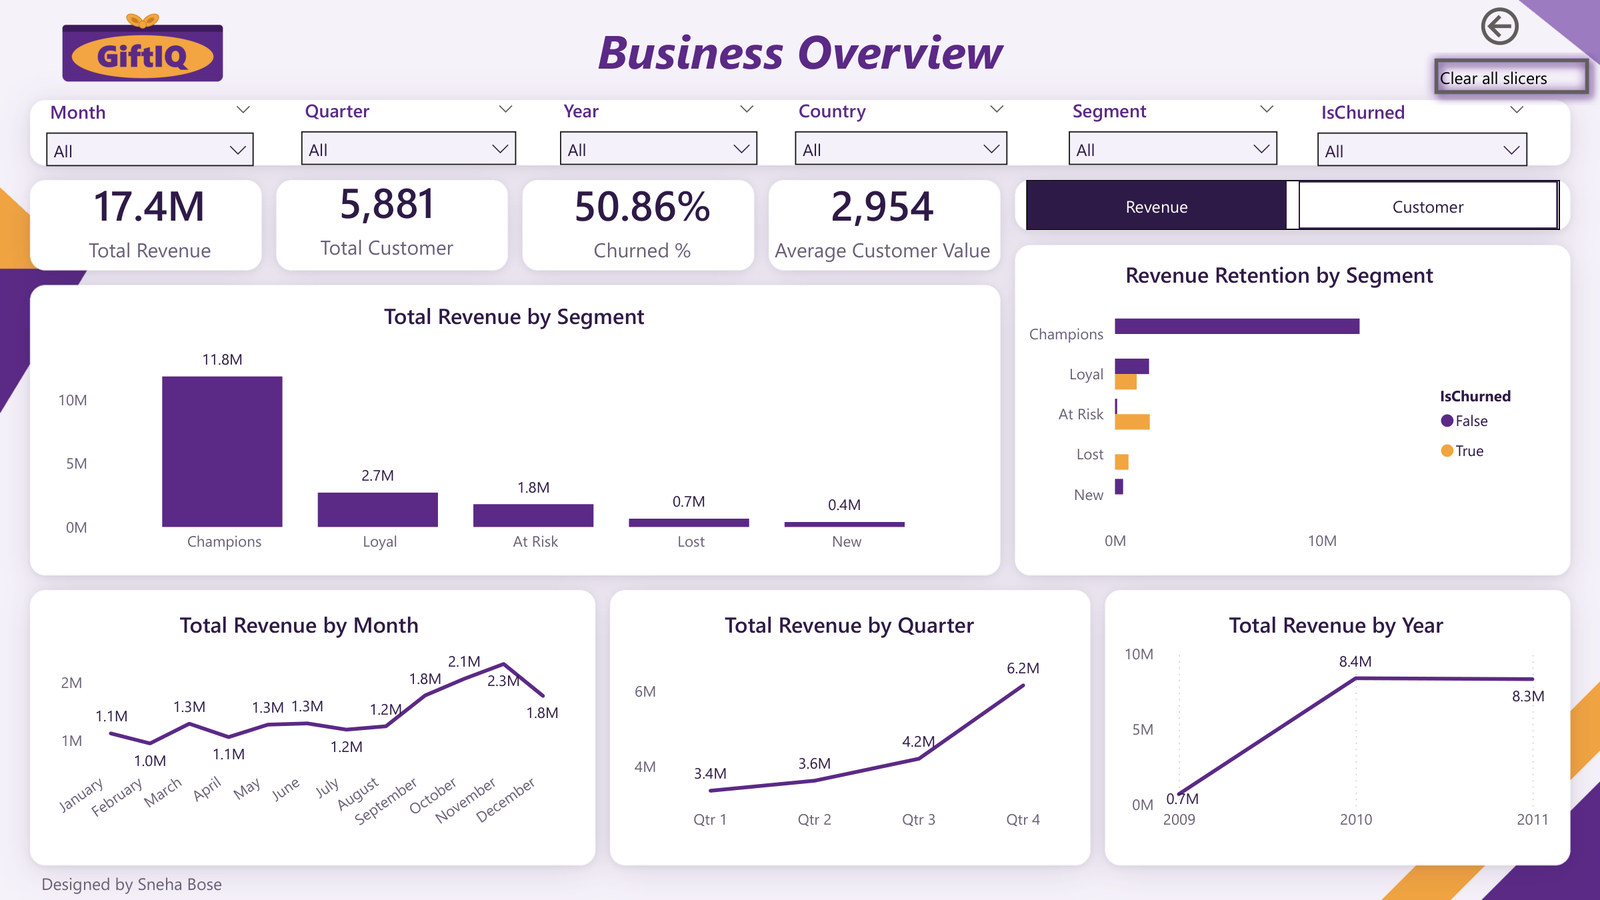

Layout of this report page (visuals, bound fields, positions):
{"tool":"powerbi","page":{"name":"Overview","canvas":[1280,720],"ordinal":1},"visuals":[{"type":"card","fields":{"Values":["Sheet1.Total Customer"]},"box":[230.5,120.8,157.8,102.9],"z":0},{"type":"columnChart","fields":{"Y":["Sheet1.Total Revenue"],"Category":["Sheet1.Segment"]},"box":[41.1,240.2,741,211.3],"z":0,"group":"g1"},{"type":"card","fields":{"Values":["Sheet1.Total Revenue"]},"box":[27.4,124.9,185.2,98.8],"z":1000},{"type":"lineChart","fields":{"Category":["Sheet1.InvoiceMonth.Variation.Date Hierarchy.Year"],"Y":["Sheet1.Total Revenue"]},"box":[894.6,487.2,349.9,186.6],"z":1000,"group":"g1"},{"type":"card","fields":{"Values":["Sheet1.Churned %"]},"box":[422.6,124.9,182.5,98.8],"z":2000},{"type":"lineChart","fields":{"Category":["Sheet1.InvoiceMonth.Variation.Date Hierarchy.Month"],"Y":["Sheet1.Total Revenue"]},"box":[27.4,487.2,425.4,186.6],"z":2000,"group":"g1"},{"type":"card","fields":{"Values":["Sheet1.Average Customer Vslue"]},"box":[605.1,124.9,201.7,98.8],"z":3000},{"type":"lineChart","fields":{"Category":["Sheet1.InvoiceMonth.Variation.Date Hierarchy.Quarter"],"Y":["Sheet1.Total Revenue"]},"box":[502.2,487.2,355.4,186.6],"z":3000,"group":"g1"},{"type":"slicer","fields":{"Values":["Sheet1.InvoiceMonth.Variation.Date Hierarchy.Month"]},"box":[27.4,74.1,185.2,60.4],"z":4000},{"type":"clusteredBarChart","title":"Revenue Retention by Segment","fields":{"Category":["Sheet1.Segment"],"Y":["Sheet1.Total Revenue"],"Series":["Sheet1.IsChurned"]},"box":[814.5,206.8,419.1,244.2],"z":4000,"group":"g1"},{"type":"slicer","fields":{"Values":["Sheet1.InvoiceMonth.Variation.Date Hierarchy.Quarter"]},"box":[230.5,72.7,192.1,61.7],"z":5000},{"type":"slicer","fields":{"Values":["Sheet1.InvoiceMonth.Variation.Date Hierarchy.Year"]},"box":[437.7,72.7,178.4,61.7],"z":6000},{"type":"slicer","fields":{"Values":["Sheet1.Country"]},"box":[625.7,72.7,190.7,61.7],"z":7000},{"type":"slicer","fields":{"Values":["Sheet1.Segment"]},"box":[845.3,72.7,186.6,61.7],"z":8000},{"type":"slicer","fields":{"Values":["Sheet1.IsChurned"]},"box":[1044.3,74.1,188,60.4],"z":9000},{"type":"group","id":"g1","title":"Revenue","box":[27.4,206.8,1217.2,467],"z":11000},{"type":"bookmarkNavigator","box":[820.9,143.6,427,40.5],"z":12000},{"type":"textbox","box":[27.5,692.5,171.2,27.5],"z":13000},{"type":"image","box":[27.5,0,171.2,73.8],"z":14000},{"type":"textbox","box":[430.6,10,418.8,62.5],"z":15000},{"type":"actionButton","box":[1180,1.2,100,40],"z":16000},{"type":"actionButton","box":[1138.8,37.5,141.2,46.2],"z":17000}]}

Visuals, with their boxes in screenshot pixels (x1, y1, x2, y2), scaled from the page's 1280x720 canvas onto the 1600x900 screenshot:
card - Sheet1.Total Customer: (288,151,485,280)
columnChart - Sheet1.Total Revenue x Sheet1.Segment: (51,300,978,564)
card - Sheet1.Total Revenue: (34,156,266,280)
lineChart - Sheet1.InvoiceMonth.Variation.Date Hierarchy.Year x Sheet1.Total Revenue: (1118,609,1556,842)
card - Sheet1.Churned %: (528,156,756,280)
lineChart - Sheet1.InvoiceMonth.Variation.Date Hierarchy.Month x Sheet1.Total Revenue: (34,609,566,842)
card - Sheet1.Average Customer Vslue: (756,156,1008,280)
lineChart - Sheet1.InvoiceMonth.Variation.Date Hierarchy.Quarter x Sheet1.Total Revenue: (628,609,1072,842)
slicer - Sheet1.InvoiceMonth.Variation.Date Hierarchy.Month: (34,93,266,168)
"Revenue Retention by Segment" clusteredBarChart: (1018,258,1542,564)
slicer - Sheet1.InvoiceMonth.Variation.Date Hierarchy.Quarter: (288,91,528,168)
slicer - Sheet1.InvoiceMonth.Variation.Date Hierarchy.Year: (547,91,770,168)
slicer - Sheet1.Country: (782,91,1021,168)
slicer - Sheet1.Segment: (1057,91,1290,168)
slicer - Sheet1.IsChurned: (1305,93,1540,168)
"Revenue" group: (34,258,1556,842)
bookmarkNavigator: (1026,180,1560,230)
textbox: (34,866,248,899)
image: (34,0,248,92)
textbox: (538,12,1062,91)
actionButton: (1475,2,1599,52)
actionButton: (1424,47,1599,105)
